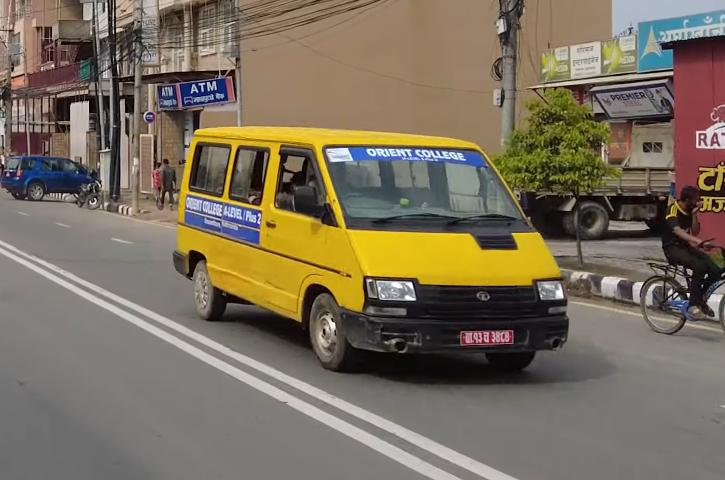SUV: (3, 151, 104, 202)
school_bus: (176, 123, 577, 383)
